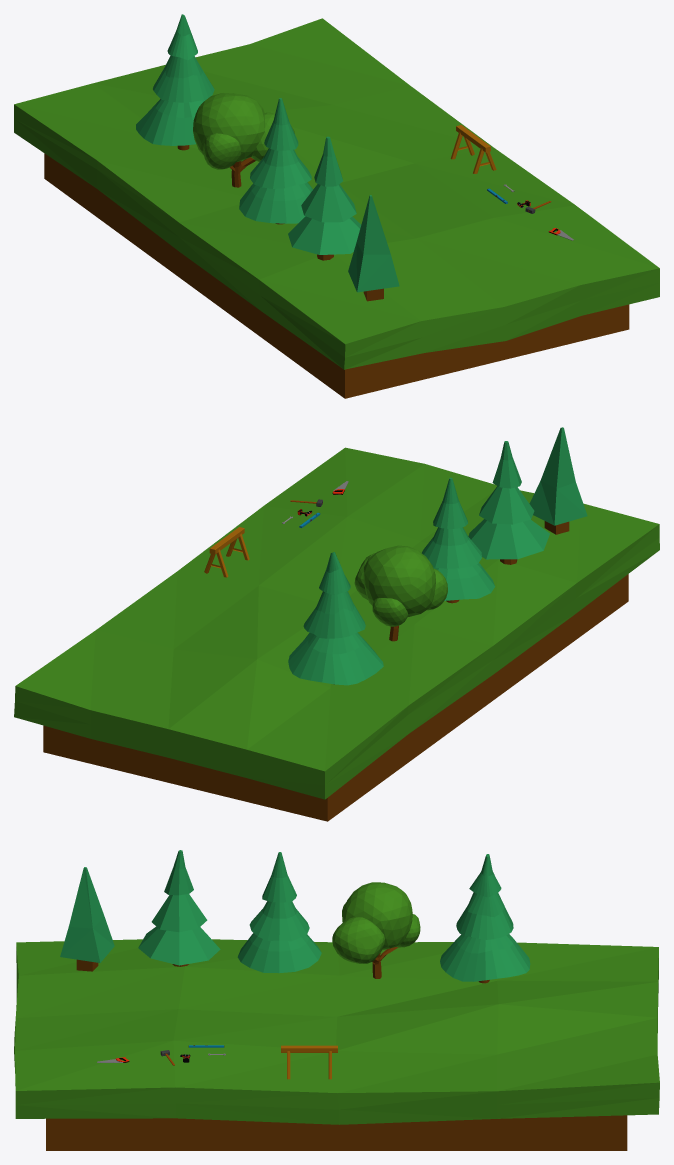
3 renders of one model, top to bottom at view 1: azimuth 30°, elevation 25°; view 2: azimuth 150°, elevation 25°; view 3: azimuth 270°, elevation 25°, orthographic. The views are drawn at different scales.
Visible parts, largest first — view 1: Ground, Cylinder.002, Cylinder.001, Icosphere.002, Cylinder, Cube.002, Cube.003; view 2: Ground, Cylinder.002, Icosphere.002, Cylinder, Cylinder.001, Cube.002, Cube.003; view 3: Ground, Cylinder.002, Icosphere.002, Cylinder.001, Cylinder, Cube.002, Cube.003.
Part boxes in pixels (left/top/right/bottom): Ground: left=14, top=18, right=659, bottom=398; Cylinder.002: left=136, top=14, right=214, bottom=150; Cylinder.001: left=239, top=98, right=312, bottom=224; Icosphere.002: left=193, top=93, right=294, bottom=187; Cylinder: left=288, top=136, right=361, bottom=260; Cube.002: left=348, top=195, right=399, bottom=301; Cube.003: left=450, top=125, right=496, bottom=173; Ground: left=14, top=447, right=659, bottom=821; Cylinder.002: left=288, top=552, right=383, bottom=685; Icosphere.002: left=354, top=545, right=447, bottom=641; Cylinder: left=468, top=441, right=549, bottom=564; Cylinder.001: left=422, top=477, right=495, bottom=603; Cube.002: left=529, top=427, right=587, bottom=534; Cube.003: left=204, top=527, right=249, bottom=577; Ground: left=14, top=939, right=659, bottom=1150; Cylinder.002: left=440, top=854, right=530, bottom=983; Icosphere.002: left=332, top=882, right=420, bottom=978; Cylinder.001: left=237, top=852, right=321, bottom=973; Cylinder: left=138, top=850, right=220, bottom=966; Cube.002: left=60, top=867, right=114, bottom=971; Cube.003: left=281, top=1045, right=337, bottom=1079.
Size of the model in its own units: 11.21 by 6.75 by 20.37.
